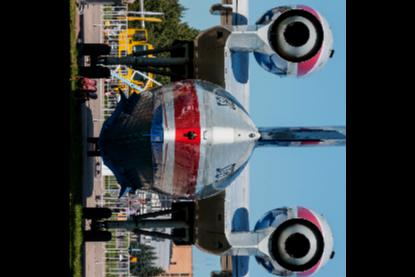B52: (74, 0, 347, 276)
